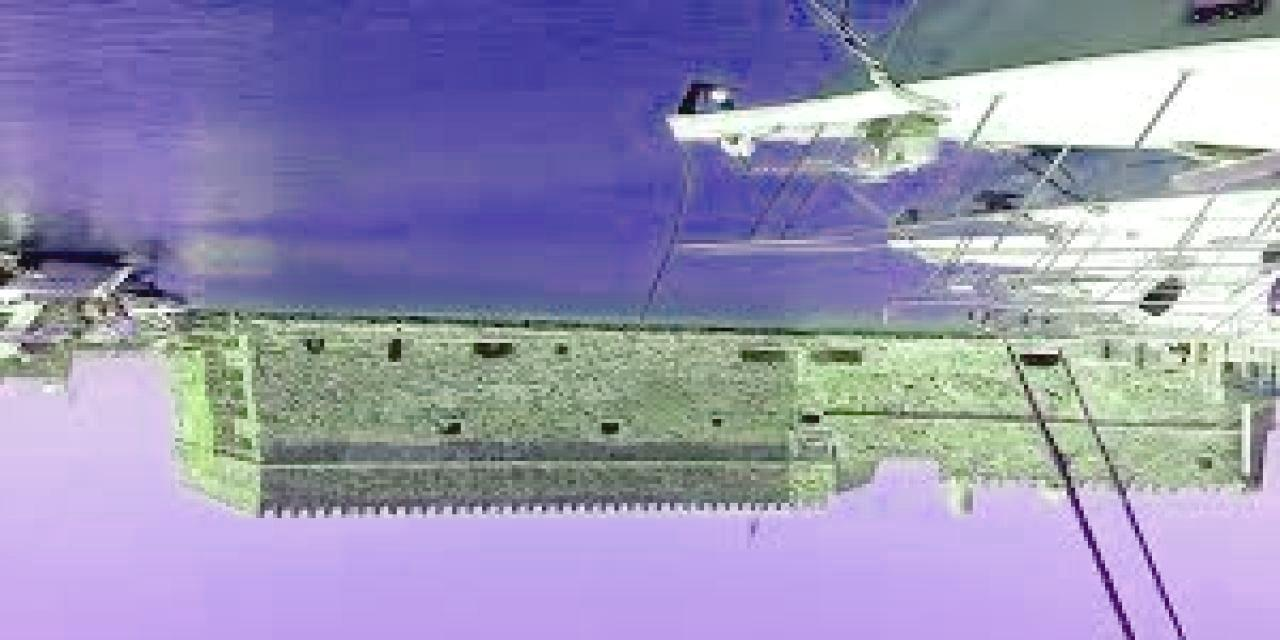Kules: (161, 316, 1280, 527)
